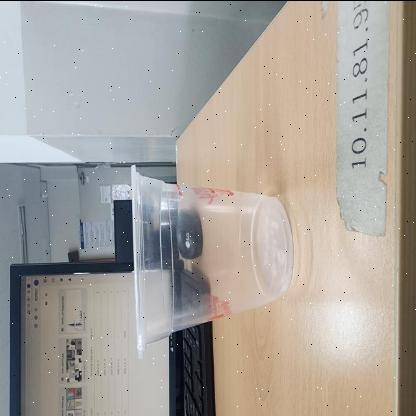Others: (130, 164, 294, 360)
